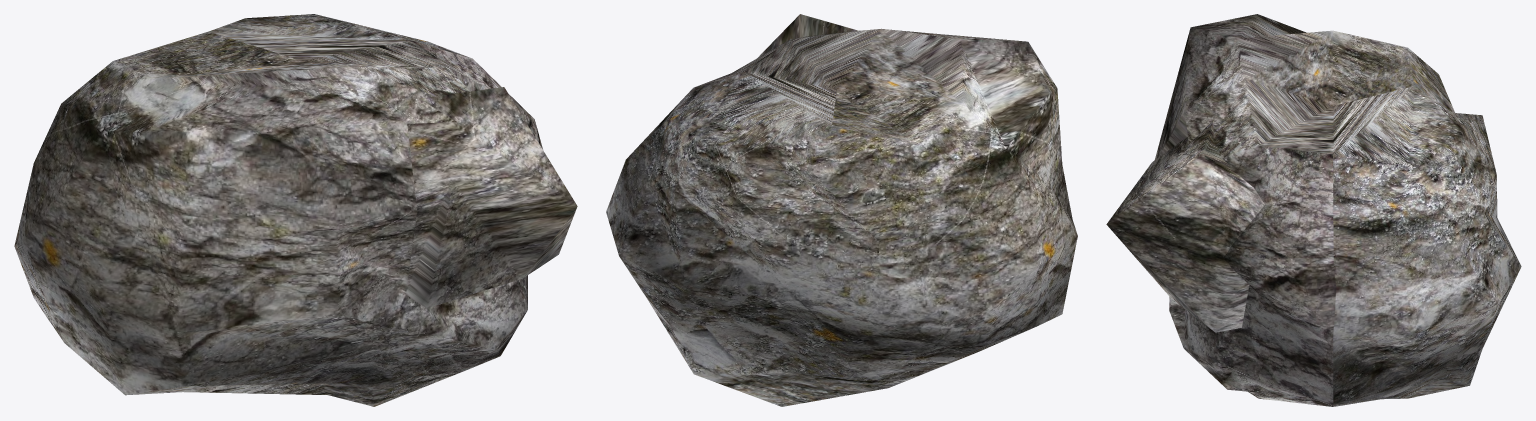
Rendered from Steen.fbx.
The picture shows the model from 3 angles, left to right: view 1: azimuth 30°, elevation 25°; view 2: azimuth 150°, elevation 25°; view 3: azimuth 270°, elevation 25°; orthographic projection. The views are drawn at different scales.
Visible parts, largest first — view 1: Sphere; view 2: Sphere; view 3: Sphere.
Part boxes in pixels (left/top/right/bottom): Sphere: left=14, top=14, right=577, bottom=406; Sphere: left=606, top=14, right=1077, bottom=406; Sphere: left=1106, top=14, right=1521, bottom=406.
Size of the model in its own units: 260 by 190 by 227.
1 material, 1 textured.
